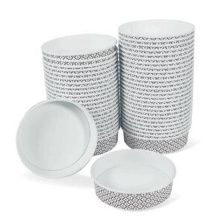paper_cup: (36, 25, 124, 160), (114, 14, 197, 156), (11, 95, 101, 183), (85, 144, 180, 213)
